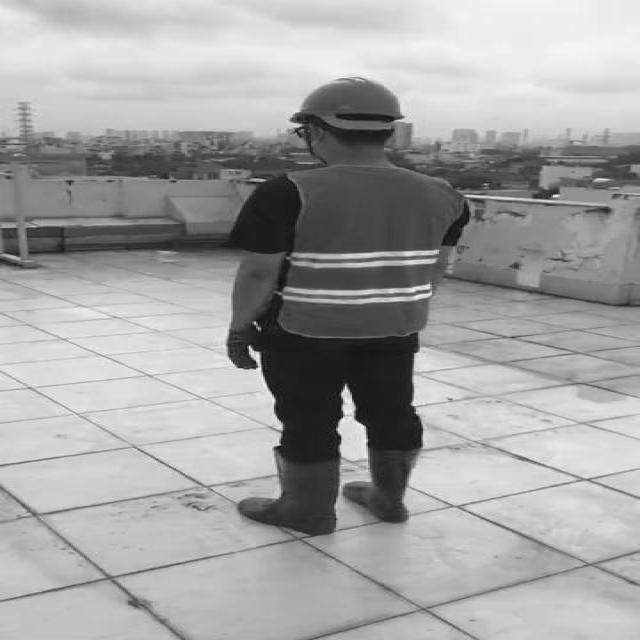boots: (238, 457, 340, 536), (345, 447, 423, 525)
hand_glove: (226, 327, 261, 369)
head_helmet: (287, 74, 413, 124)
person: (210, 72, 489, 544)
vest: (276, 164, 462, 337)
